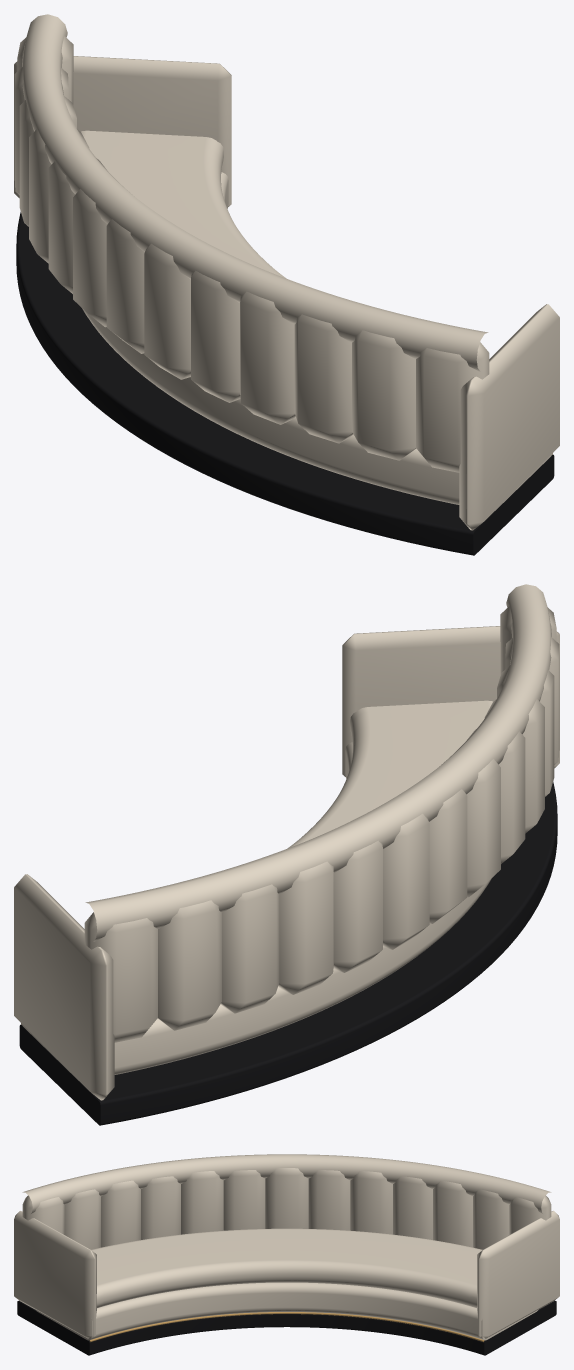
The model's file is sofa_curve.glb.
The picture shows the model from 3 angles, top to bottom: view 1: azimuth 30°, elevation 25°; view 2: azimuth 150°, elevation 25°; view 3: azimuth 270°, elevation 25°; orthographic projection. The views are drawn at different scales.
Parts seen in each view (by area): view 1: Mesh_Plinth, Mesh_TopRoll, Mesh_EndR, Mesh_EndL, Mesh_SeatCushion, Mesh_SeatBase, Mesh_Channel11, Mesh_Channel10, Mesh_Channel9, Mesh_Channel12, Mesh_Channel8, Mesh_Channel7 (+7 smaller); view 2: Mesh_Plinth, Mesh_TopRoll, Mesh_EndL, Mesh_EndR, Mesh_SeatCushion, Mesh_SeatBase, Mesh_Channel1, Mesh_Channel2, Mesh_Channel3, Mesh_Channel0, Mesh_Channel4, Mesh_Channel5 (+7 smaller); view 3: Mesh_SeatCushion, Mesh_SeatBase, Mesh_TopRoll, Mesh_Plinth, Mesh_EndL, Mesh_EndR, Mesh_Channel6, Mesh_Channel4, Mesh_Channel8, Mesh_Channel5, Mesh_Channel7, Mesh_Channel2 (+8 smaller).
Part boxes in pixels (bbox=[...]): Mesh_Plinth: bbox=[16, 212, 554, 555]; Mesh_TopRoll: bbox=[22, 14, 488, 371]; Mesh_EndR: bbox=[459, 304, 559, 530]; Mesh_EndL: bbox=[14, 56, 231, 206]; Mesh_SeatCushion: bbox=[81, 130, 286, 278]; Mesh_SeatBase: bbox=[82, 172, 552, 510]; Mesh_Channel11: bbox=[352, 330, 415, 460]; Mesh_Channel10: bbox=[294, 314, 353, 443]; Mesh_Channel9: bbox=[240, 291, 295, 424]; Mesh_Channel12: bbox=[416, 342, 489, 472]; Mesh_Channel8: bbox=[191, 270, 240, 402]; Mesh_Channel7: bbox=[144, 243, 190, 379]; Mesh_Plinth: bbox=[19, 782, 557, 1125]; Mesh_TopRoll: bbox=[85, 584, 551, 941]; Mesh_EndL: bbox=[14, 874, 114, 1100]; Mesh_EndR: bbox=[342, 626, 559, 776]; Mesh_SeatCushion: bbox=[287, 700, 492, 848]; Mesh_SeatBase: bbox=[21, 742, 491, 1080]; Mesh_Channel1: bbox=[158, 900, 221, 1030]; Mesh_Channel2: bbox=[220, 884, 279, 1013]; Mesh_Channel3: bbox=[278, 861, 333, 994]; Mesh_Channel0: bbox=[84, 912, 157, 1042]; Mesh_Channel4: bbox=[333, 840, 382, 972]; Mesh_Channel5: bbox=[383, 813, 429, 949]; Mesh_SeatCushion: bbox=[91, 1228, 482, 1307]; Mesh_SeatBase: bbox=[35, 1282, 538, 1340]; Mesh_TopRoll: bbox=[22, 1154, 551, 1214]; Mesh_Plinth: bbox=[17, 1300, 556, 1355]; Mesh_EndL: bbox=[477, 1211, 559, 1338]; Mesh_EndR: bbox=[14, 1211, 96, 1338]; Mesh_Channel6: bbox=[265, 1168, 308, 1228]; Mesh_Channel4: bbox=[350, 1171, 392, 1234]; Mesh_Channel8: bbox=[181, 1171, 223, 1234]; Mesh_Channel5: bbox=[308, 1170, 350, 1230]; Mesh_Channel7: bbox=[223, 1170, 265, 1230]; Mesh_Channel2: bbox=[433, 1180, 472, 1247].
Bounding box in the file's own units: 1.2 × 0.88 × 3.42.
